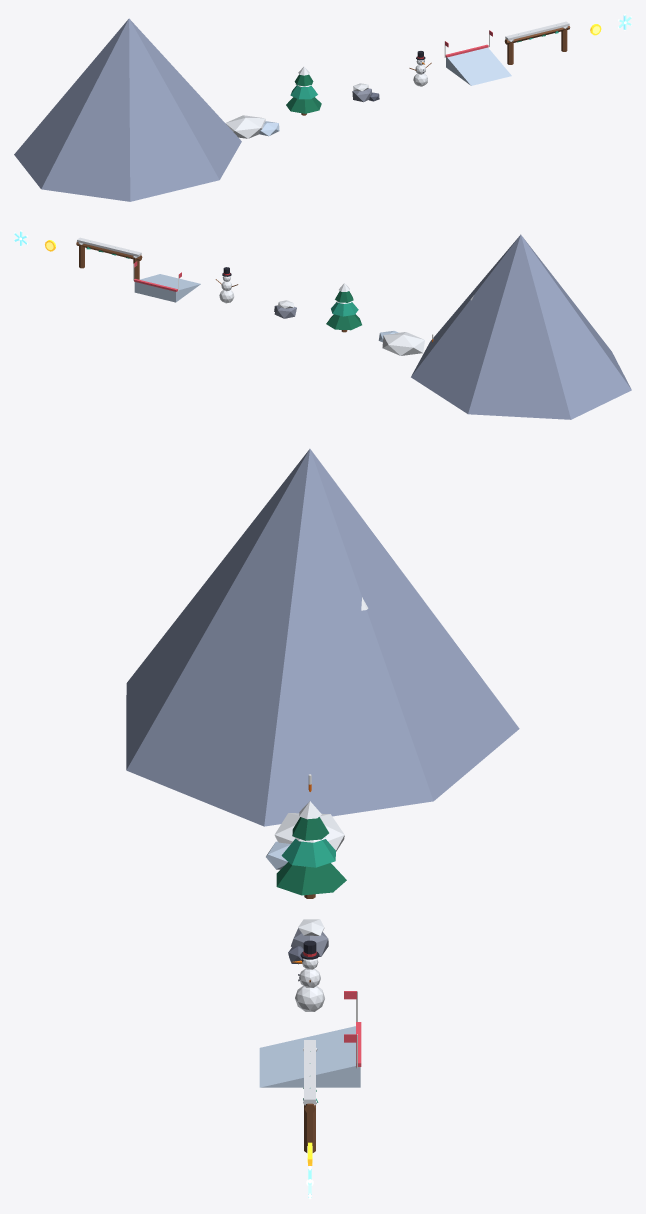
File: welt.glb
3 views of the same model, one above another, from view 1: azimuth 30°, elevation 25°; view 2: azimuth 150°, elevation 25°; view 3: azimuth 270°, elevation 25° (orthographic). The views are drawn at different scales.
Parts seen in each view (by area): view 1: Berg.001, Rampe, Huegel.001, Nadeln, Schnee_oben, Nadeln.001; view 2: Berg.001, Rampe, Huegel.001, Nadeln, Schnee_oben, Nadeln.001; view 3: Berg.001, Rampe, Nadeln, Nadeln.001.
Part boxes in pixels (x1,y1,x2,y2): Berg.001: (14, 18, 241, 201); Rampe: (446, 47, 511, 85); Huegel.001: (225, 115, 265, 138); Nadeln: (286, 97, 321, 113); Schnee_oben: (505, 21, 569, 40); Nadeln.001: (290, 85, 317, 99); Berg.001: (411, 234, 631, 419); Rampe: (134, 274, 200, 302); Huegel.001: (382, 332, 424, 355); Nadeln: (326, 314, 361, 330); Schnee_oben: (77, 237, 141, 256); Nadeln.001: (331, 302, 358, 316); Berg.001: (126, 449, 519, 826); Rampe: (259, 1026, 360, 1087); Nadeln: (276, 862, 346, 895); Nadeln.001: (281, 838, 335, 867).
Bounding box in the file's own units: 41.27 × 9.61 × 11.68.
